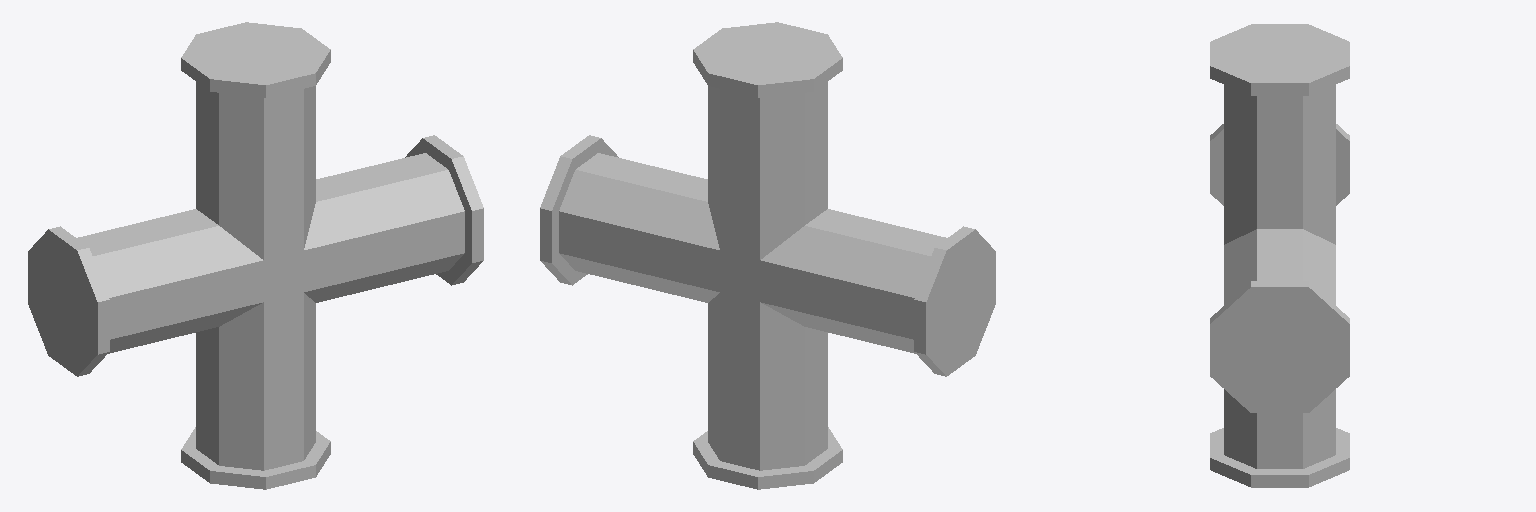
Rendered from pipeworks_pipe_8_lowpoly.obj.
3 views of the same model, side by side, from view 1: azimuth 30°, elevation 25°; view 2: azimuth 150°, elevation 25°; view 3: azimuth 270°, elevation 25° (orthographic).
Visible parts, largest first — view 1: Cylinder.002_Cylinder.006_None.003_Cylinder.002_Cylinder.00.000; view 2: Cylinder.002_Cylinder.006_None.003_Cylinder.002_Cylinder.00.000; view 3: Cylinder.002_Cylinder.006_None.003_Cylinder.002_Cylinder.00.000.
Boxes of the visible parts, box(x1,y1,x2,y2) form: Cylinder.002_Cylinder.006_None.003_Cylinder.002_Cylinder.00.000: box(28, 22, 483, 489); Cylinder.002_Cylinder.006_None.003_Cylinder.002_Cylinder.00.000: box(540, 22, 995, 489); Cylinder.002_Cylinder.006_None.003_Cylinder.002_Cylinder.00.000: box(1210, 24, 1349, 487).
Bounding box in the file's own units: 1 × 1 × 0.3125.